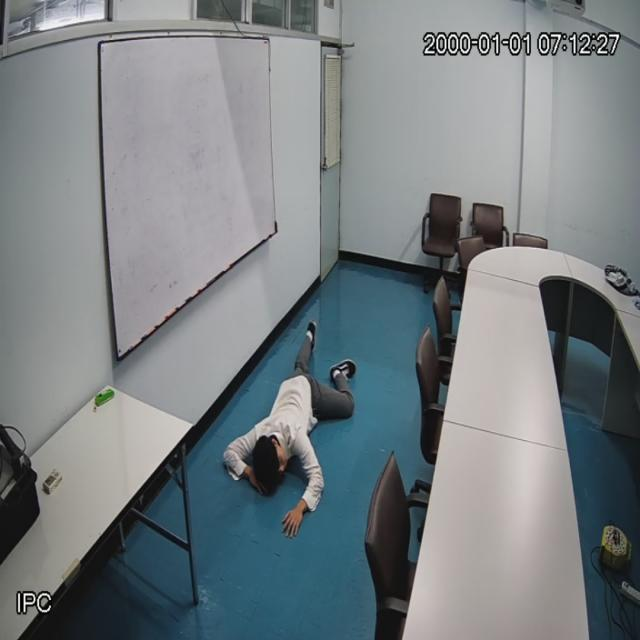fall: (226, 330, 354, 512)
